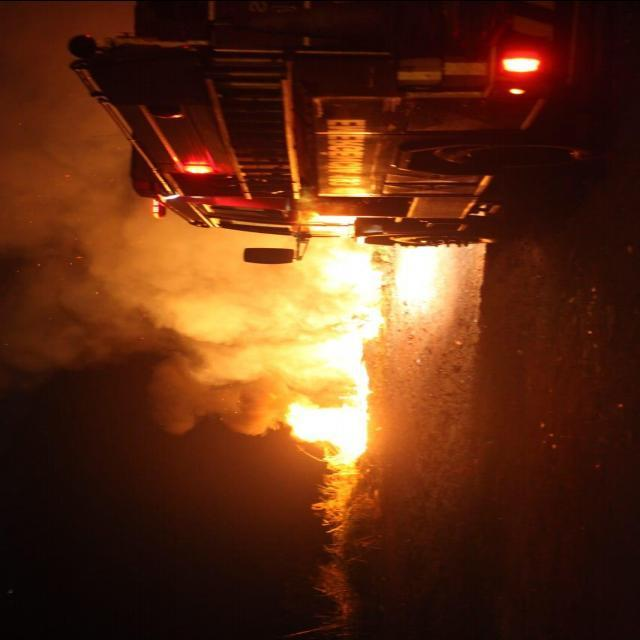Fire: (284, 255, 384, 464)
